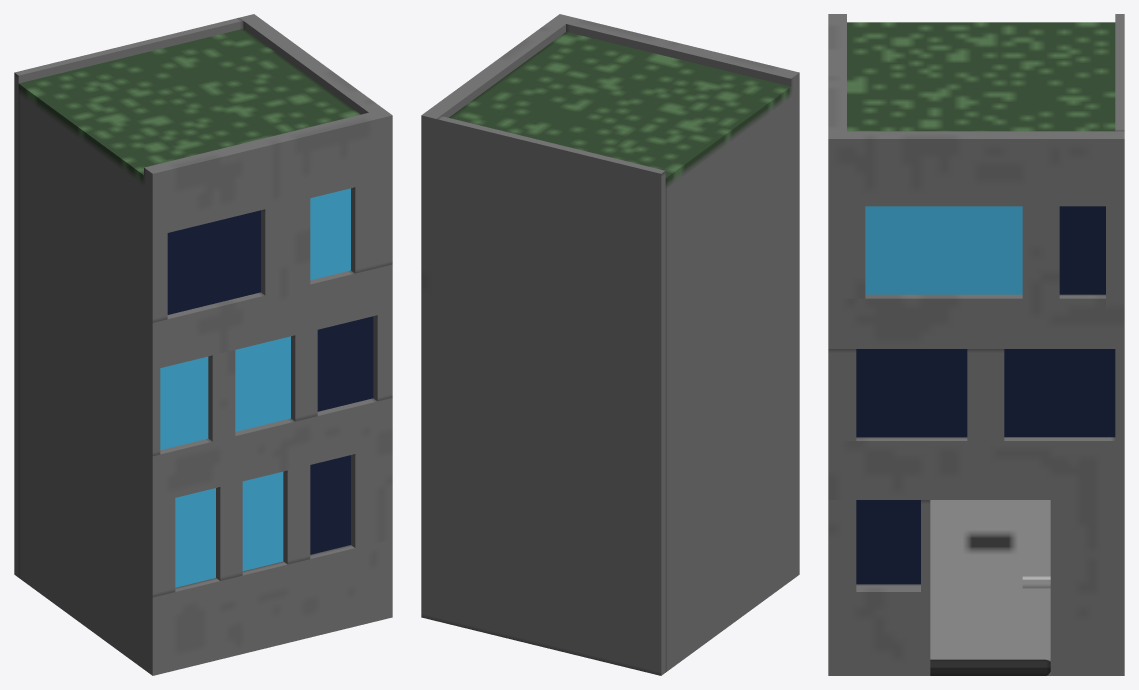
The model's file is BUDYNEK_Z_TRAWA_Z_DZW.dae.
The picture shows the model from 3 angles, left to right: view 1: azimuth 30°, elevation 25°; view 2: azimuth 150°, elevation 25°; view 3: azimuth 270°, elevation 25°; orthographic projection. The views are drawn at different scales.
Parts seen in each view (by area): view 1: Content; view 2: Content; view 3: Content.
Part boxes in pixels (x1,y1,x2,y2): Content: [14, 14, 392, 675]; Content: [421, 14, 799, 675]; Content: [828, 14, 1124, 675].
Bounding box in the file's own units: 32 × 64 × 32.
1 material, 1 textured.
